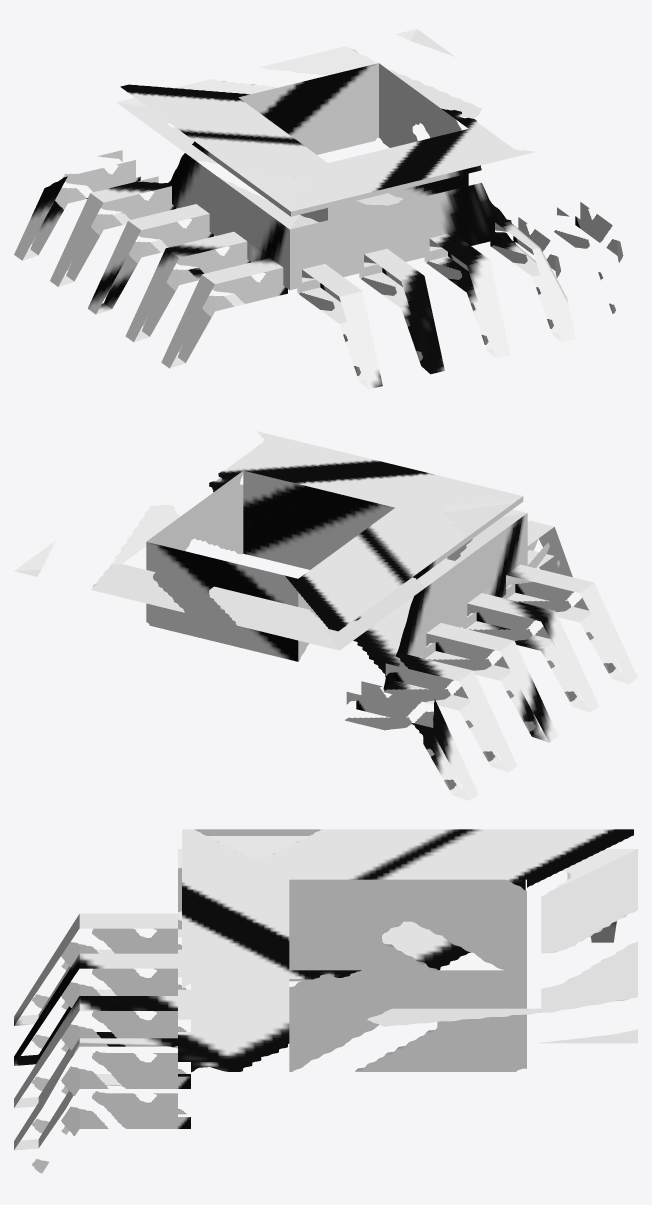
Rendered from Crypta.FBX.
3 renders of one model, top to bottom at view 1: azimuth 30°, elevation 25°; view 2: azimuth 150°, elevation 25°; view 3: azimuth 270°, elevation 25°, orthographic. The views are drawn at different scales.
Visible parts, largest first — view 1: Box001; view 2: Box001; view 3: Box001.
Boxes of the visible parts, bbox=[...] form: Box001: bbox=[14, 29, 623, 389]; Box001: bbox=[14, 431, 637, 800]; Box001: bbox=[14, 829, 637, 1173].
Size of the model in its own units: 34.47 by 10.76 by 34.16.
